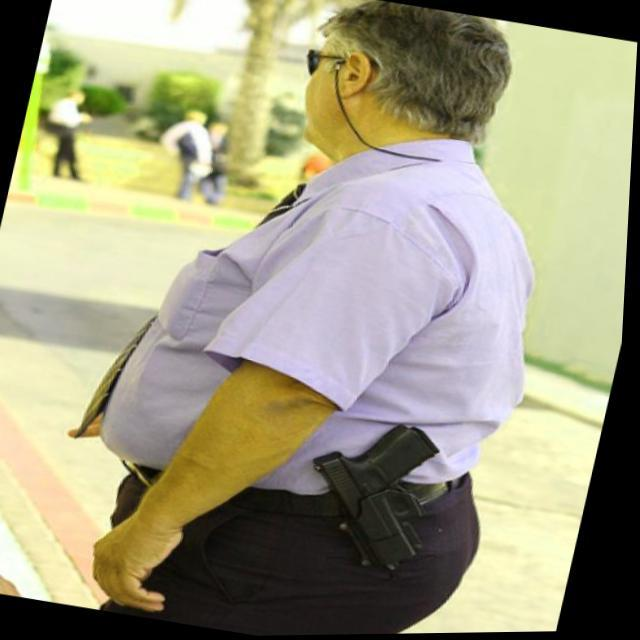weapon: (293, 404, 462, 586)
